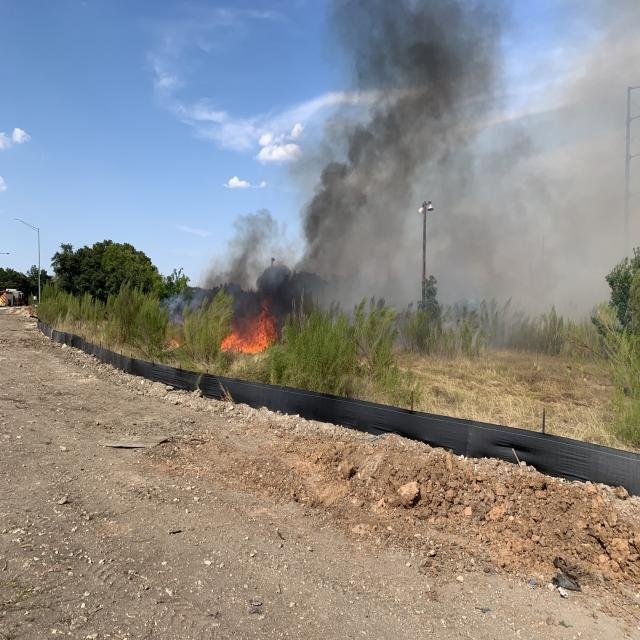Fire: (218, 302, 292, 372)
Smoke: (268, 0, 602, 366)
